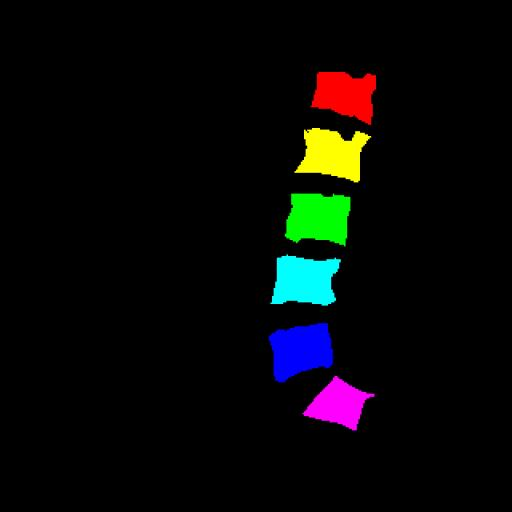L1: (311, 72, 376, 124)
L2: (296, 130, 370, 182)
L3: (286, 194, 350, 246)
L4: (272, 258, 340, 306)
L5: (270, 323, 332, 382)
S1: (303, 376, 374, 430)
